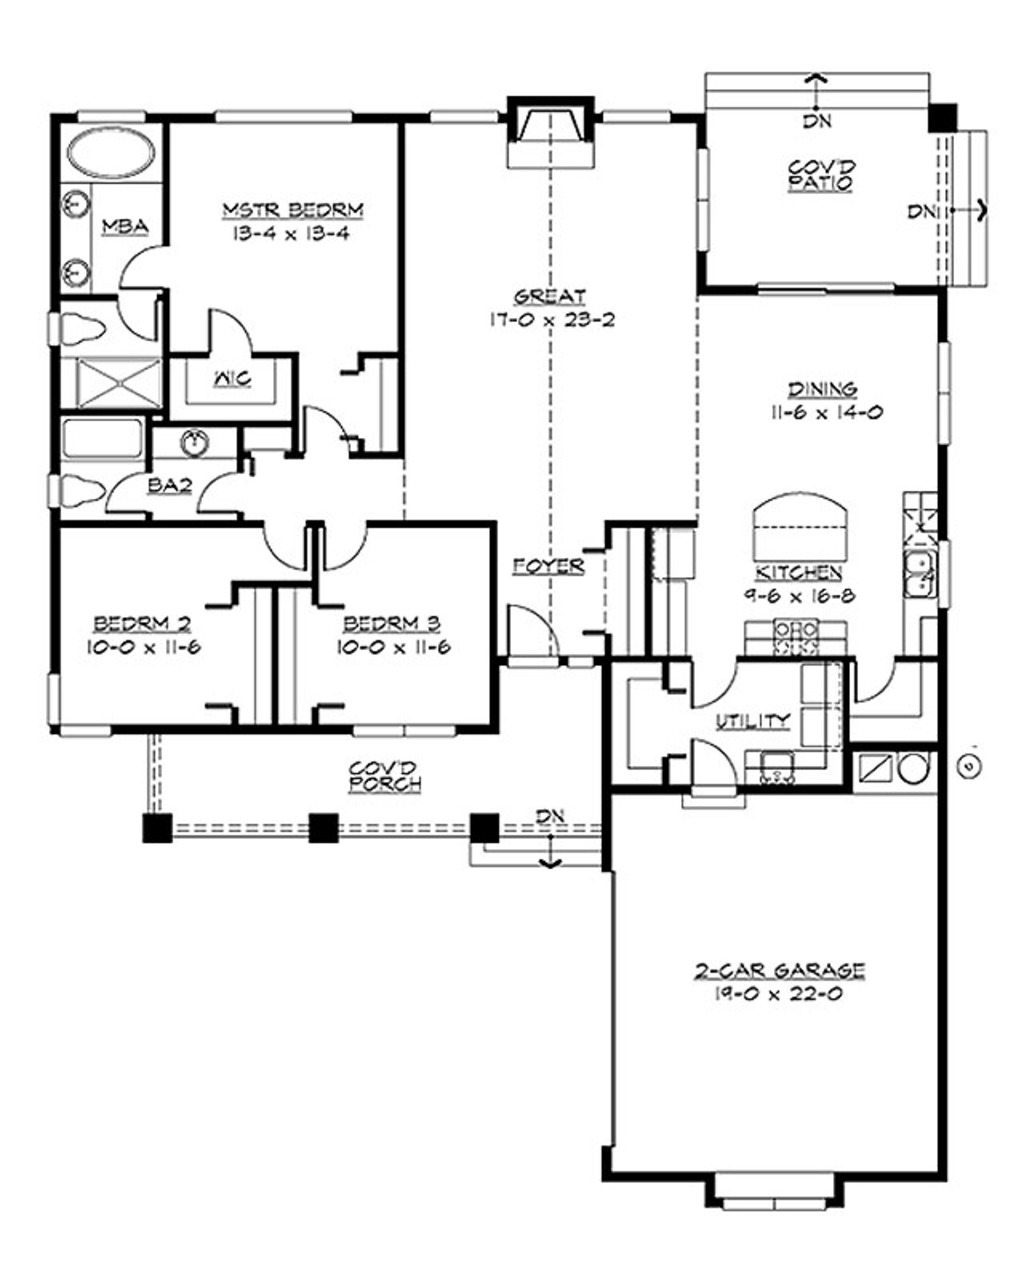door: (681, 734, 751, 811), (835, 645, 910, 709), (499, 601, 571, 661), (97, 468, 164, 526), (116, 239, 180, 299), (686, 649, 745, 711), (320, 509, 378, 568), (203, 305, 264, 361), (293, 403, 353, 455), (193, 468, 241, 516), (116, 303, 168, 345)
kitchen_bar: (737, 486, 866, 661)
large_sink: (39, 299, 114, 349), (43, 470, 114, 511)
small_sink: (53, 184, 103, 287), (170, 418, 237, 466)
stairs: (706, 66, 933, 132), (937, 137, 999, 291)
tub: (55, 122, 181, 189), (45, 409, 155, 461)
twin_sink: (880, 532, 945, 611)
window: (212, 107, 366, 130), (749, 284, 905, 297), (76, 99, 156, 122), (414, 105, 506, 122), (601, 107, 686, 122)
